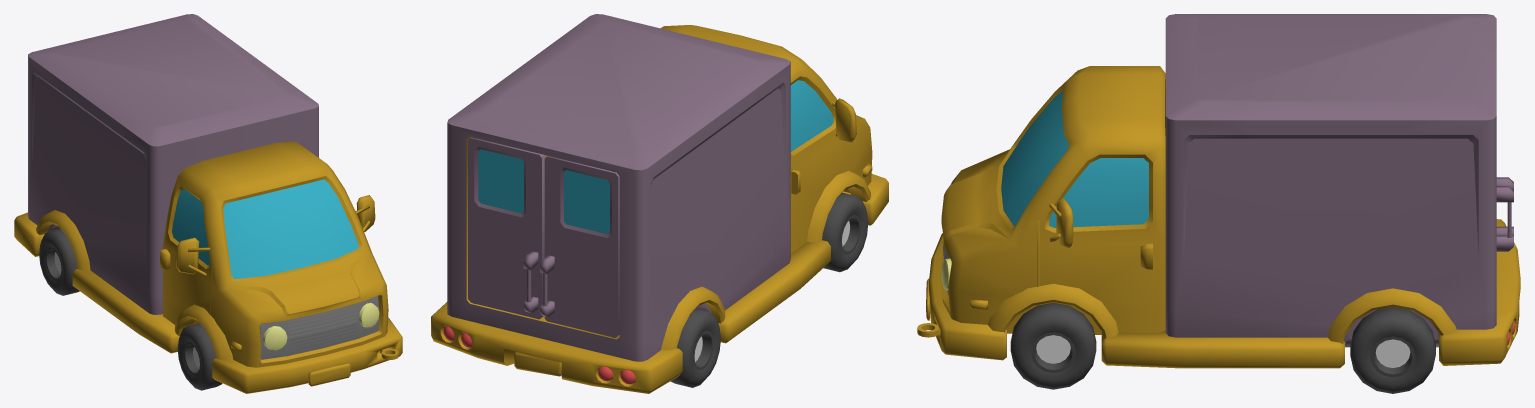
File: Truck.fbx
3 views of the same model, side by side, from view 1: azimuth 30°, elevation 25°; view 2: azimuth 150°, elevation 25°; view 3: azimuth 270°, elevation 25° (orthographic). The views are drawn at different scales.
Visible parts, largest first — view 1: kamyon, teker2, teker4; view 2: kamyon, kapi2, kapi1, teker2, teker4; view 3: kamyon, teker.006, teker3, kapi1.
Part boxes in pixels (left/top/right/bottom): kamyon: left=14, top=14, right=402, bottom=393; teker2: left=177, top=323, right=222, bottom=390; teker4: left=39, top=228, right=79, bottom=295; kamyon: left=431, top=14, right=888, bottom=393; kapi2: left=540, top=156, right=619, bottom=337; kapi1: left=468, top=137, right=545, bottom=319; teker2: left=822, top=192, right=868, bottom=272; teker4: left=670, top=308, right=720, bottom=387; kamyon: left=917, top=14, right=1520, bottom=368; teker.006: left=1010, top=302, right=1096, bottom=389; teker3: left=1350, top=307, right=1435, bottom=393; kapi1: left=1496, top=186, right=1513, bottom=251.
Size of the model in its own units: 274 by 285 by 564.
